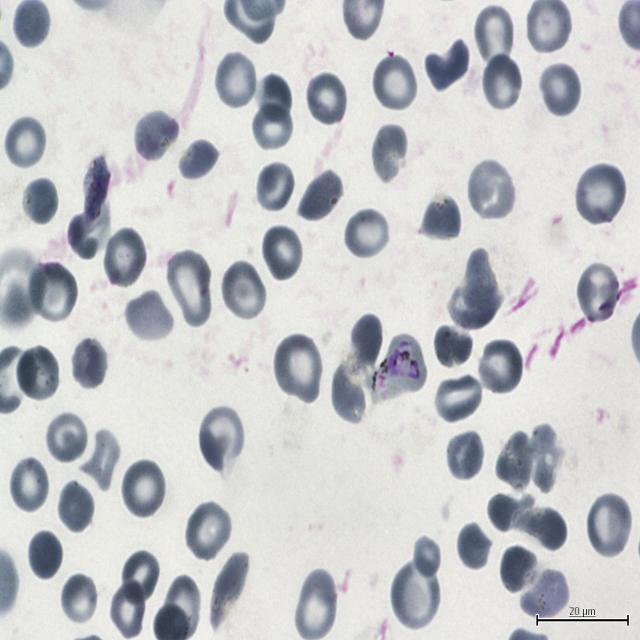red blood cell: (450, 250, 501, 332), (272, 333, 324, 405), (573, 160, 627, 228), (390, 558, 440, 631), (165, 251, 213, 325), (198, 404, 246, 474), (466, 157, 516, 223), (585, 491, 633, 559), (27, 260, 77, 325), (294, 568, 338, 640), (184, 498, 233, 562), (220, 259, 268, 323), (576, 260, 622, 326), (120, 457, 168, 520), (476, 336, 524, 398), (371, 52, 419, 114), (102, 225, 148, 289), (209, 556, 249, 629), (14, 343, 61, 404), (523, 426, 562, 497), (124, 288, 174, 343), (133, 108, 181, 165), (329, 356, 368, 426), (494, 430, 537, 493), (473, 2, 514, 68), (260, 222, 304, 283), (214, 49, 258, 110), (44, 408, 90, 466), (480, 53, 523, 114), (432, 372, 483, 423), (520, 570, 572, 620), (344, 206, 391, 261), (369, 121, 410, 184), (305, 70, 349, 128), (538, 60, 582, 118), (82, 428, 120, 495), (3, 115, 48, 171), (298, 170, 344, 223), (8, 456, 50, 514), (119, 549, 160, 608), (164, 574, 200, 638), (109, 580, 148, 639), (425, 39, 469, 91), (498, 543, 540, 597), (176, 134, 221, 184), (59, 571, 99, 627), (255, 160, 296, 214), (70, 336, 110, 391), (56, 479, 95, 535), (445, 428, 485, 482), (454, 520, 494, 574), (419, 194, 462, 244), (21, 173, 61, 226), (520, 508, 568, 551), (26, 528, 64, 582), (253, 103, 294, 149), (434, 325, 474, 370), (486, 490, 528, 532), (351, 314, 382, 368), (258, 74, 292, 120), (68, 213, 98, 261), (411, 533, 441, 580)
trophozoite: (371, 334, 427, 401)
